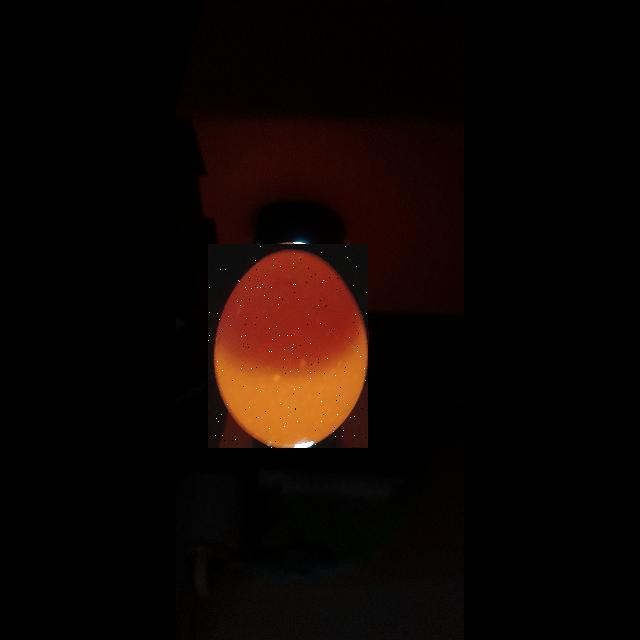Fertile: (208, 244, 368, 448)
